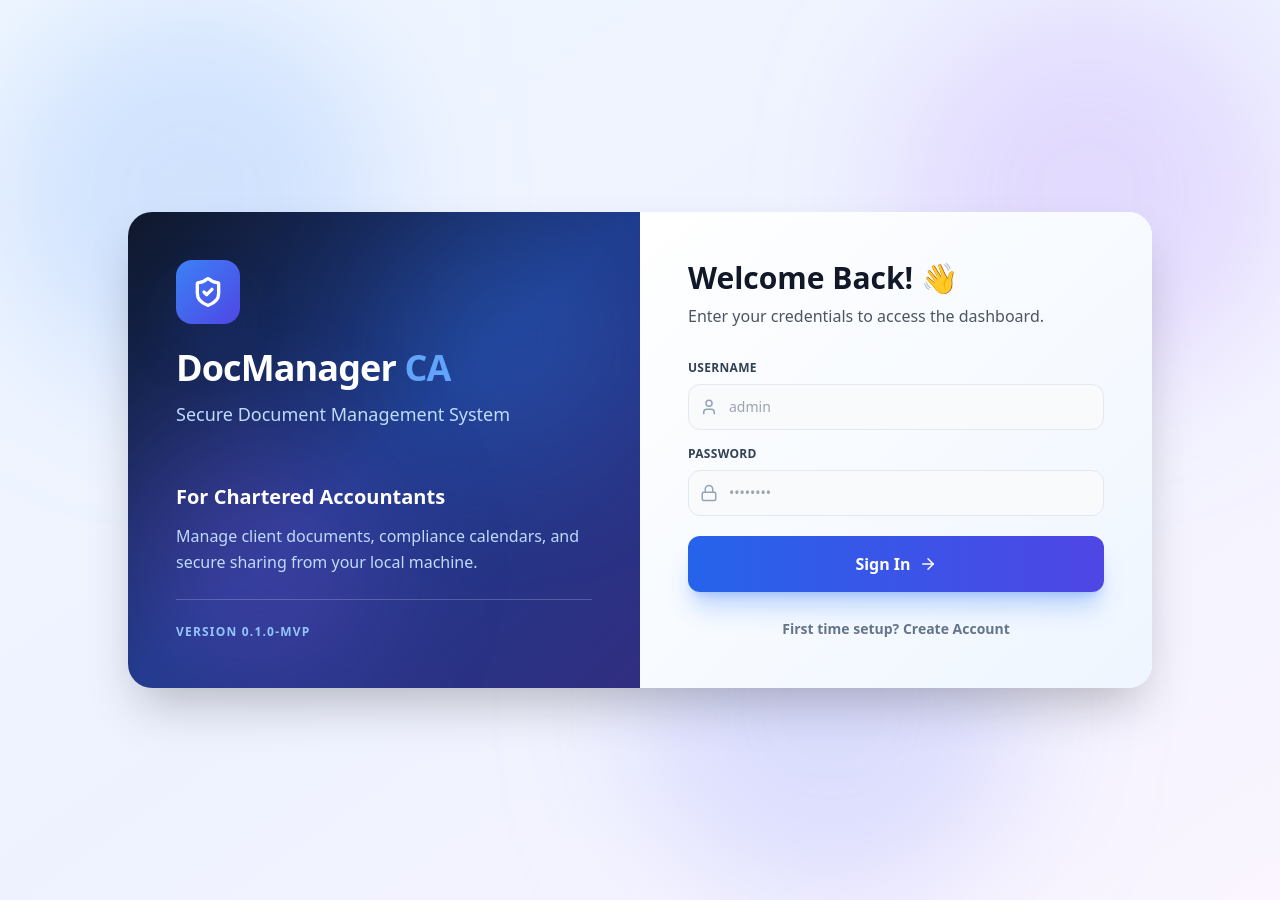
Test: CALogin Component › toggles to registration form
Click the button "First time setup? Create Account" at (896, 629), box [782,619,1010,639]
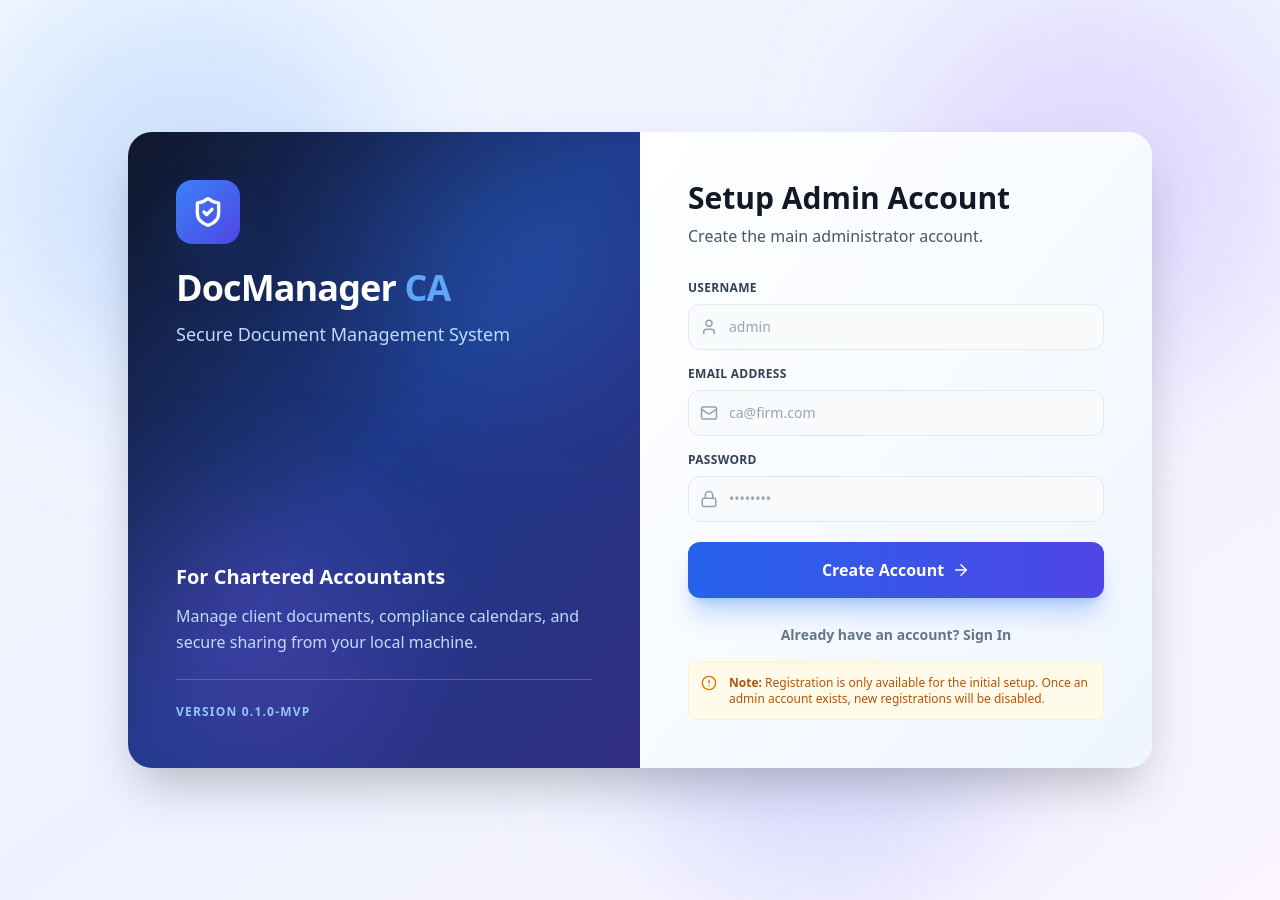
Check: the heading "Setup Admin Account" is shown, box [688,177,1010,218]
Check: the field with placeholder "ca@firm.com" is shown, box [688,390,1104,436]
